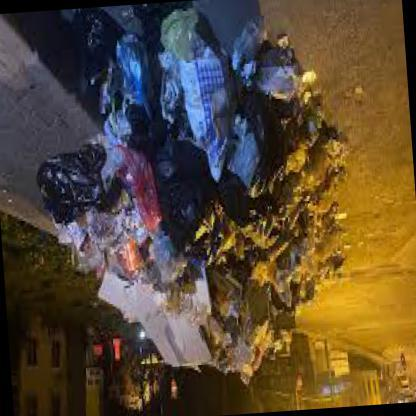Garbage: (100, 1, 303, 234), (38, 156, 250, 274), (232, 125, 338, 285), (146, 238, 252, 380), (209, 248, 292, 362), (100, 267, 226, 332)
